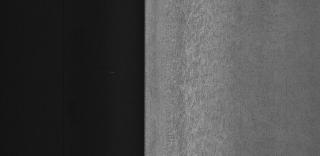silk spot: (167, 13, 215, 152)
